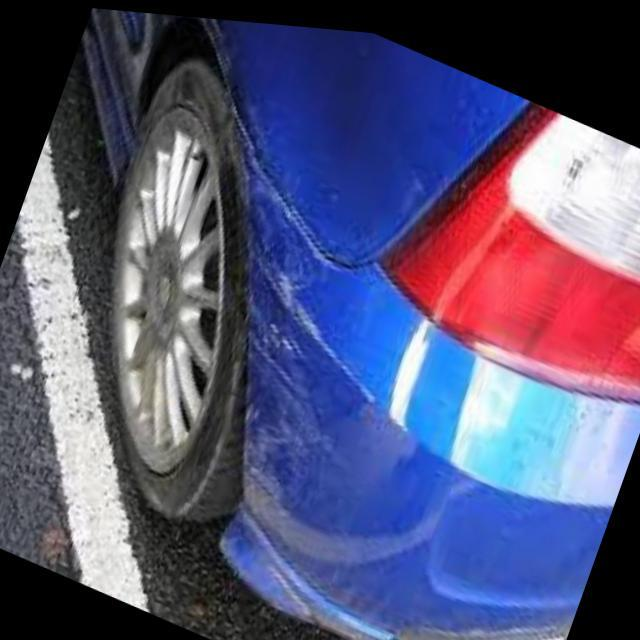rub: (168, 12, 376, 540)
